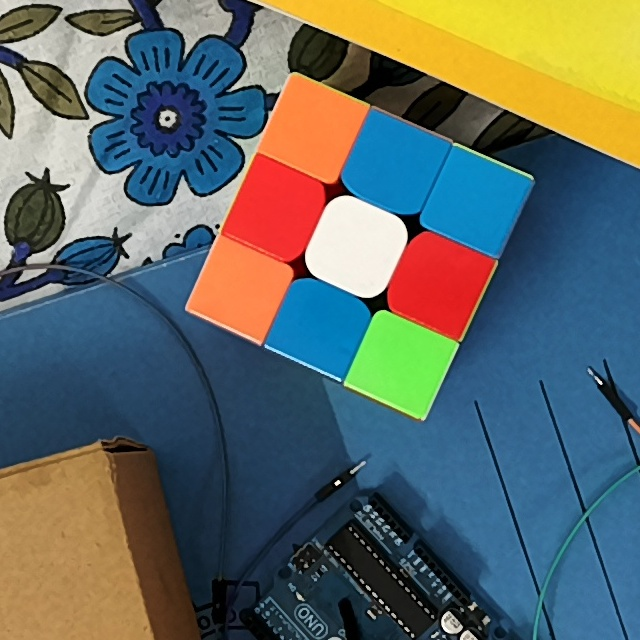tile: (366, 335, 435, 395), (443, 174, 508, 237), (325, 214, 388, 278), (362, 132, 424, 197), (406, 252, 470, 312), (288, 294, 352, 354), (246, 179, 307, 240), (281, 100, 343, 160), (207, 259, 268, 318)
